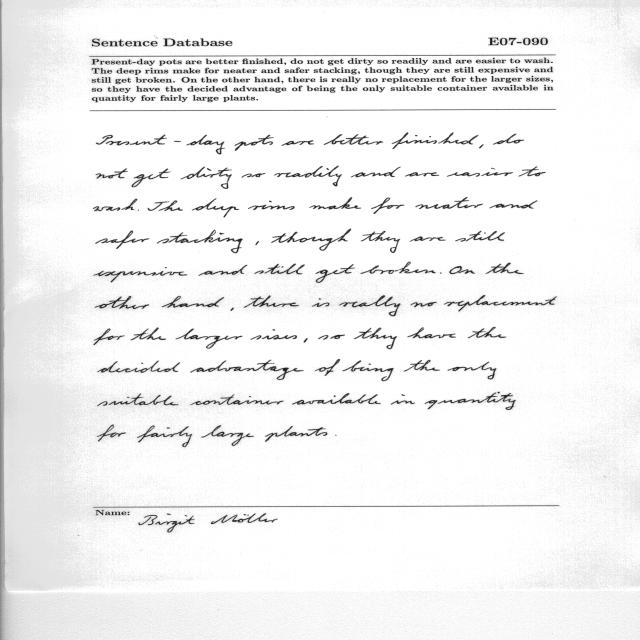word: (97, 135, 225, 155), (275, 166, 401, 186), (190, 360, 304, 380), (157, 230, 243, 253), (444, 295, 557, 312), (271, 229, 351, 251), (425, 392, 516, 410), (181, 167, 252, 189), (392, 132, 479, 149), (94, 267, 187, 282), (176, 329, 243, 349), (340, 295, 401, 316), (137, 426, 192, 448), (201, 425, 254, 446), (342, 361, 394, 382), (292, 393, 381, 405), (98, 360, 180, 373), (97, 393, 179, 406), (265, 426, 327, 442), (96, 231, 149, 249), (190, 395, 284, 405), (360, 262, 436, 274), (354, 328, 397, 349), (192, 199, 239, 218), (361, 231, 400, 253), (448, 362, 497, 379), (415, 197, 483, 209), (315, 264, 355, 283), (162, 296, 224, 308), (131, 169, 171, 187), (244, 295, 299, 308), (95, 296, 149, 309), (324, 134, 383, 145), (234, 135, 274, 151), (309, 198, 361, 210), (94, 199, 138, 212), (371, 197, 404, 214), (455, 231, 505, 242), (199, 265, 248, 276), (407, 328, 456, 339), (254, 264, 305, 274), (251, 329, 297, 340), (94, 329, 125, 345), (97, 425, 126, 442), (486, 262, 524, 274), (131, 328, 166, 341), (490, 200, 538, 209), (315, 359, 340, 376), (468, 327, 506, 338), (248, 201, 294, 210), (147, 200, 183, 211), (404, 360, 440, 371), (493, 134, 524, 145), (96, 169, 128, 179), (519, 167, 546, 177), (391, 394, 415, 405), (481, 168, 513, 176), (410, 236, 446, 242), (450, 266, 475, 274), (281, 140, 314, 146), (405, 172, 439, 177), (447, 172, 480, 177), (312, 298, 330, 307), (318, 335, 345, 340), (411, 302, 437, 307), (252, 173, 266, 177), (479, 145, 483, 149), (255, 241, 259, 245), (304, 338, 308, 342), (231, 307, 234, 311), (335, 435, 337, 436), (138, 210, 139, 211), (440, 273, 441, 274)
